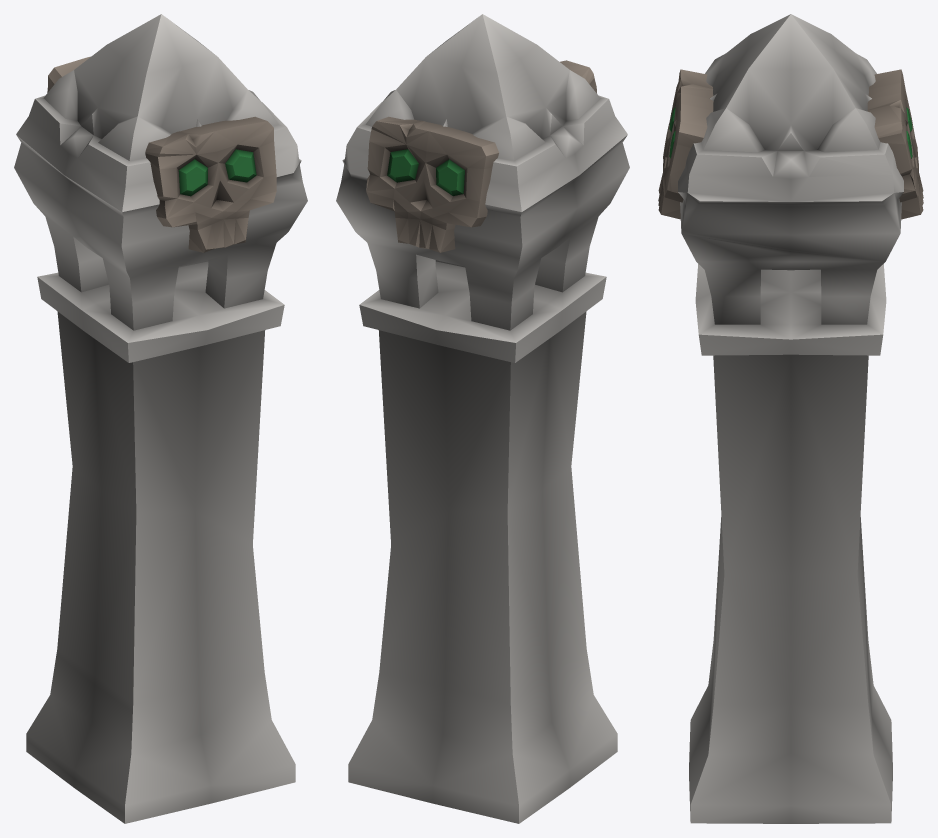
The model's file is obj_milestone_B_LOW.FBX.
3 renders of one model, left to right at view 1: azimuth 30°, elevation 25°; view 2: azimuth 150°, elevation 25°; view 3: azimuth 270°, elevation 25°, orthographic.
Visible parts, largest first — view 1: obj_milestone_B_LOW; view 2: obj_milestone_B_LOW; view 3: obj_milestone_B_LOW.
Part boxes in pixels (x1,y1,x2,y2): obj_milestone_B_LOW: (14,14,307,823); obj_milestone_B_LOW: (336,14,629,823); obj_milestone_B_LOW: (658,14,923,823).
Size of the model in its own units: 0.9997 by 3.72 by 1.17.
